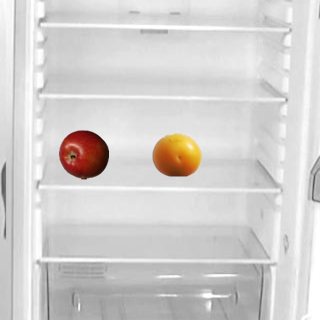Apple Braeburn: (58, 129, 108, 179)
Cherry Wax Yellow: (151, 129, 201, 179)
